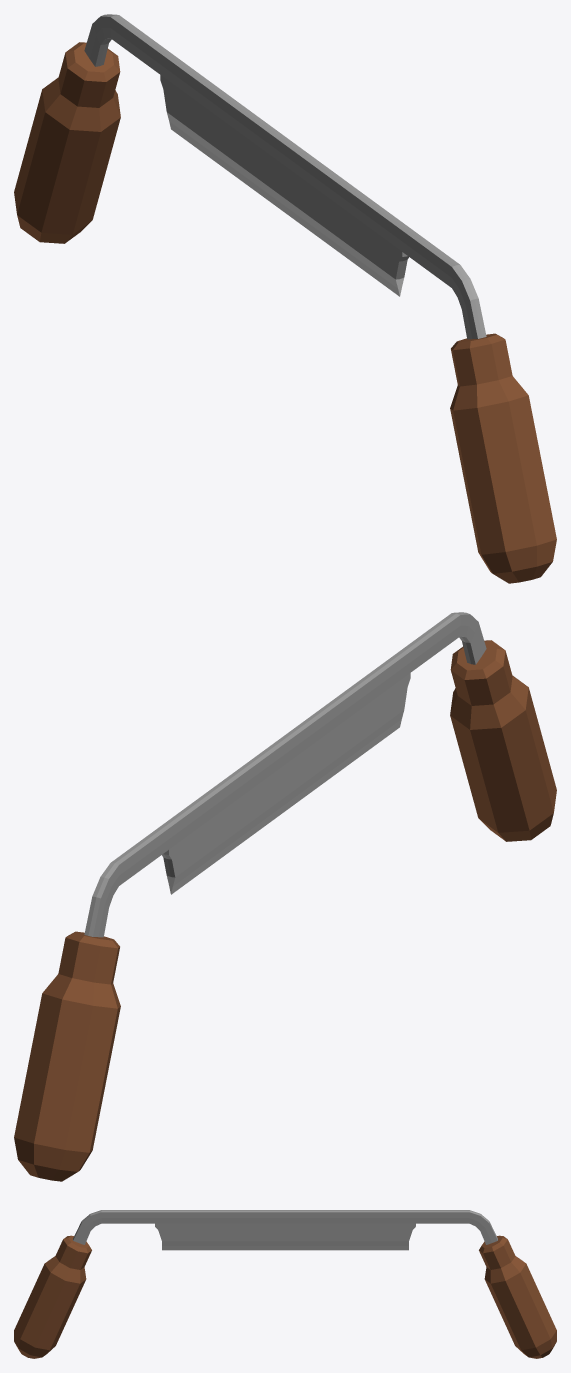
Rendered from drawknife01.obj.
3 views of the same model, one above another, from view 1: azimuth 30°, elevation 25°; view 2: azimuth 150°, elevation 25°; view 3: azimuth 270°, elevation 25° (orthographic). The views are drawn at different scales.
Visible parts, largest first — view 1: Cylinder.002; view 2: Cylinder.002; view 3: Cylinder.002.
Boxes of the visible parts, box(x1,y1,x2,y2) form: Cylinder.002: box(14, 14, 556, 583); Cylinder.002: box(14, 612, 556, 1181); Cylinder.002: box(14, 1210, 556, 1358).
Size of the model in its own units: 0.0315 by 0.1124 by 0.3783.
Materials: 1 (1 with a texture image).
